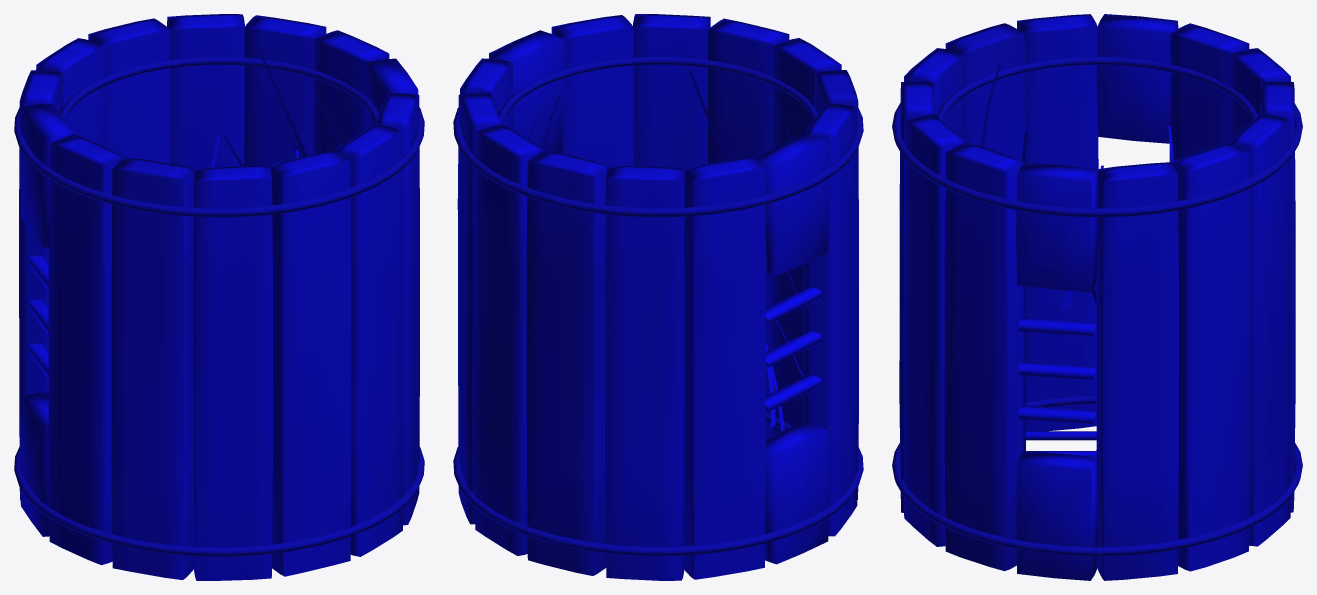
The model's file is current_shaft.glb.
3 renders of one model, left to right at view 1: azimuth 30°, elevation 25°; view 2: azimuth 150°, elevation 25°; view 3: azimuth 270°, elevation 25°, orthographic.
Parts seen in each view (by area): view 1: current_shaft; view 2: current_shaft; view 3: current_shaft.
Boxes of the visible parts, <box> form: current_shaft: <box>14,14,424,580</box>; current_shaft: <box>453,14,863,580</box>; current_shaft: <box>892,14,1302,580</box>.
Size of what is drawn, in the model's own units: 2.97 by 3.28 by 2.97.
